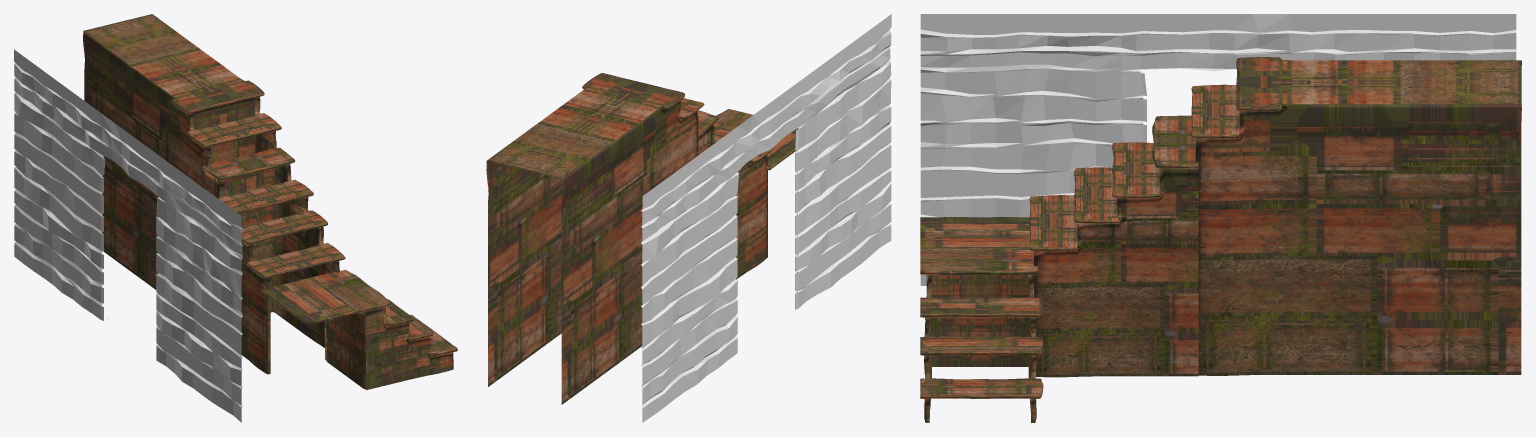
File: stair.fbx
The picture shows the model from 3 angles, left to right: view 1: azimuth 30°, elevation 25°; view 2: azimuth 150°, elevation 25°; view 3: azimuth 270°, elevation 25°; orthographic projection. The views are drawn at different scales.
Visible parts, largest first — view 1: Wallfbx, Stair3, Stair2, Stair1; view 2: Wallfbx, Stair3, Stair2, Stair1; view 3: Stair3, Wallfbx, Stair2, Stair1.
Part boxes in pixels (left/top/right/bottom): Wallfbx: left=14, top=49, right=242, bottom=422; Stair3: left=83, top=14, right=281, bottom=312; Stair2: left=202, top=147, right=345, bottom=374; Stair1: left=261, top=269, right=457, bottom=390; Wallfbx: left=641, top=14, right=891, bottom=422; Stair3: left=486, top=73, right=704, bottom=404; Stair2: left=697, top=110, right=773, bottom=279; Stair1: left=716, top=109, right=797, bottom=170; Stair3: left=1191, top=57, right=1521, bottom=375; Wallfbx: left=920, top=14, right=1516, bottom=285; Stair2: left=1029, top=115, right=1198, bottom=377; Stair1: left=920, top=217, right=1043, bottom=422.
Size of the model in its own units: 244 by 220 by 441.
